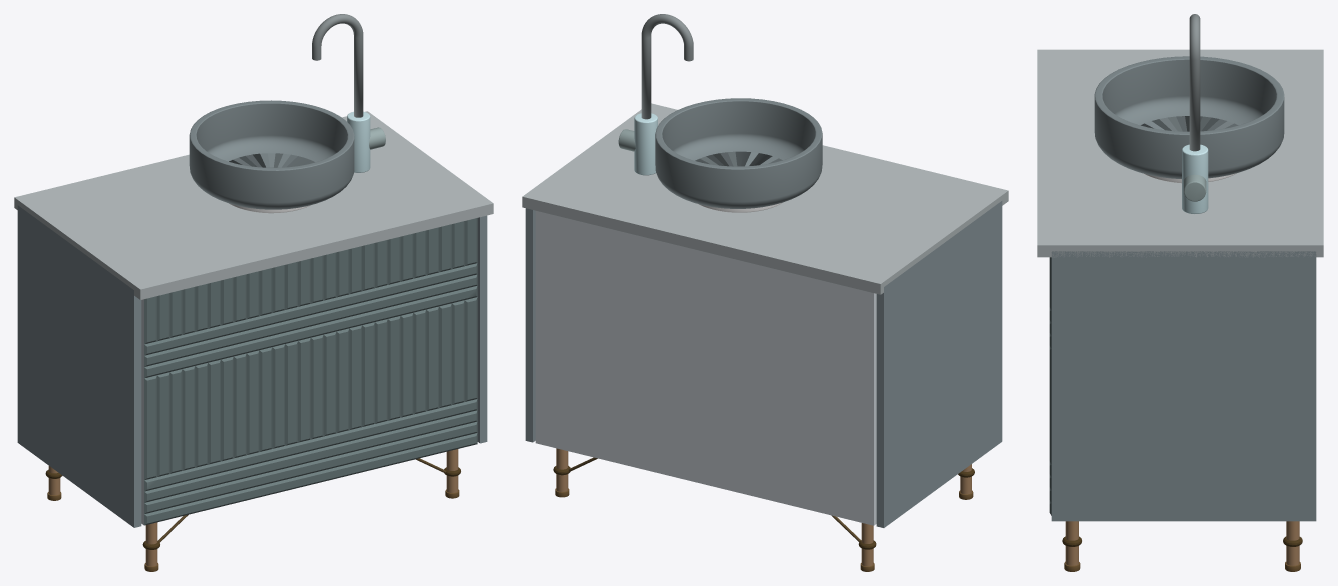
Rendered from lavabo.gltf.
The picture shows the model from 3 angles, left to right: view 1: azimuth 30°, elevation 25°; view 2: azimuth 150°, elevation 25°; view 3: azimuth 270°, elevation 25°; orthographic projection. The views are drawn at different scales.
Visible parts, largest first — view 1: face_line_1, up_box_1, Box001_1, Line001_1, Line002_1, Cylinder004_1, Cylinder003_1, table_line_1; view 2: table_line_1, up_box_1, Box001_1, Line001_1, Line002_1, Cylinder003_1, Cylinder004_1; view 3: Box001_1, up_box_1, Line001_1, Line002_1, Cylinder003_1, Cylinder004_1, face_line_1, Cylinder002_1.
Boxes of the visible parts, x1,y1,x2,y2 form: face_line_1: [144, 218, 477, 525]; up_box_1: [14, 111, 493, 299]; Box001_1: [17, 205, 487, 527]; Line001_1: [189, 100, 354, 209]; Line002_1: [312, 14, 363, 117]; Cylinder004_1: [48, 449, 458, 566]; Cylinder003_1: [347, 111, 370, 172]; table_line_1: [141, 299, 143, 525]; table_line_1: [535, 211, 876, 525]; up_box_1: [522, 103, 1008, 294]; Box001_1: [525, 201, 1002, 527]; Line001_1: [655, 98, 822, 208]; Line002_1: [641, 14, 693, 119]; Cylinder003_1: [634, 113, 657, 175]; Cylinder004_1: [556, 448, 971, 566]; Box001_1: [1051, 251, 1316, 521]; up_box_1: [1037, 49, 1323, 257]; Line001_1: [1094, 56, 1284, 178]; Line002_1: [1189, 14, 1200, 151]; Cylinder003_1: [1182, 144, 1208, 214]; Cylinder004_1: [1065, 521, 1299, 565]; face_line_1: [1049, 257, 1051, 515]; Cylinder002_1: [1184, 174, 1206, 201].
Bounding box in the file's own units: 15.93 × 19.65 × 9.84.
